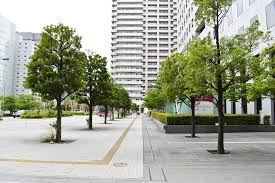tree: (23, 15, 95, 156)
